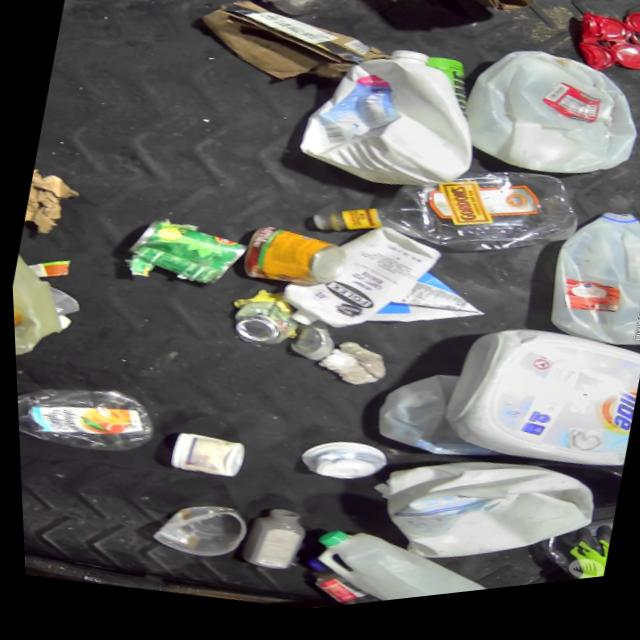can: (117, 208, 249, 302), (233, 218, 350, 304), (291, 433, 388, 499), (222, 288, 302, 360), (160, 426, 247, 490), (281, 320, 337, 373)
milk_jug: (352, 434, 600, 608), (285, 30, 493, 219), (448, 38, 640, 211), (295, 517, 493, 616), (532, 209, 640, 372)
non_white_jug: (431, 314, 640, 497)
plastic_bottle: (13, 358, 162, 472), (195, 0, 339, 38)
